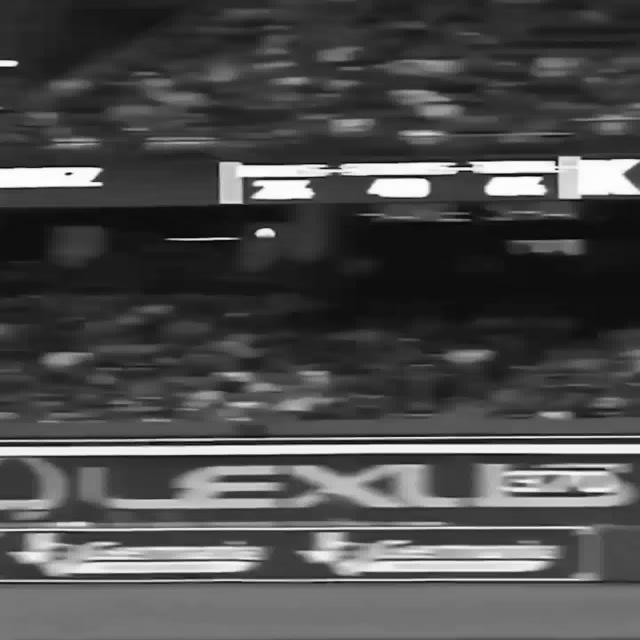baseball: (253, 227, 275, 238)
